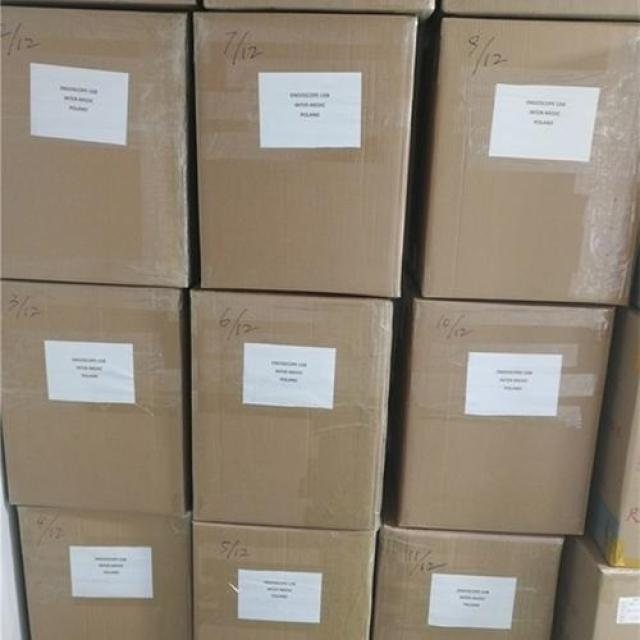box: (408, 16, 639, 307), (188, 14, 417, 298), (384, 278, 615, 536), (0, 4, 193, 290), (189, 290, 398, 530), (0, 280, 187, 517), (369, 514, 563, 639), (18, 505, 192, 639), (192, 521, 374, 639), (585, 304, 639, 570), (551, 534, 639, 639), (437, 1, 639, 24)
